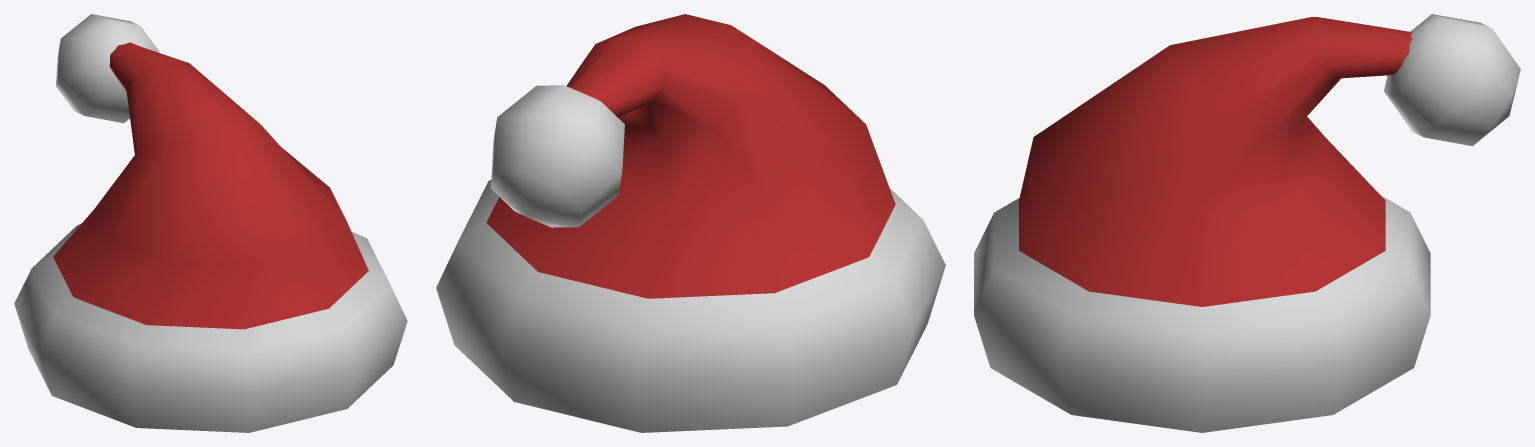
File: M_Hat_03.FBX
The picture shows the model from 3 angles, left to right: view 1: azimuth 30°, elevation 25°; view 2: azimuth 150°, elevation 25°; view 3: azimuth 270°, elevation 25°; orthographic projection. The views are drawn at different scales.
Parts seen in each view (by area): view 1: Cylinder019; view 2: Cylinder019; view 3: Cylinder019.
Part boxes in pixels (box(x1,y1,x2,y2)): Cylinder019: box(14, 14, 407, 432); Cylinder019: box(436, 14, 945, 432); Cylinder019: box(974, 14, 1520, 432).
Size of the model in its own units: 68.34 by 51.6 by 77.86.
1 material, 1 textured.
